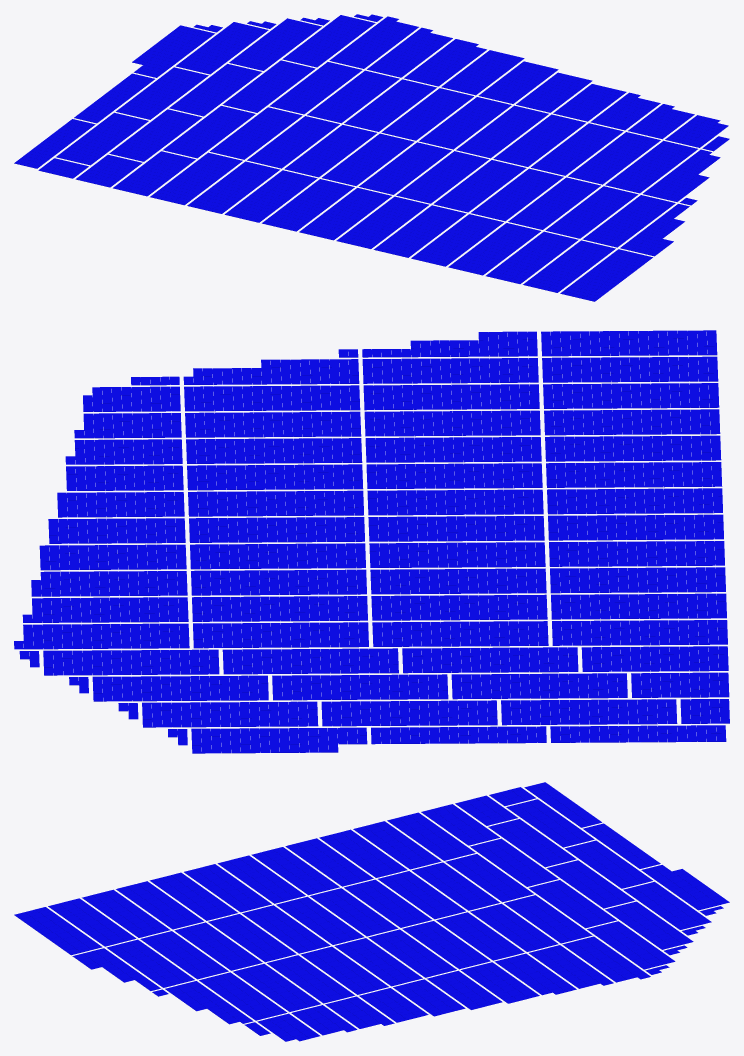
The model's file is test-processed.gltf.
3 renders of one model, top to bottom at view 1: azimuth 30°, elevation 25°; view 2: azimuth 150°, elevation 25°; view 3: azimuth 270°, elevation 25°, orthographic. The views are drawn at different scales.
Size of the model in its own units: 115 by 0.03 by 134.
